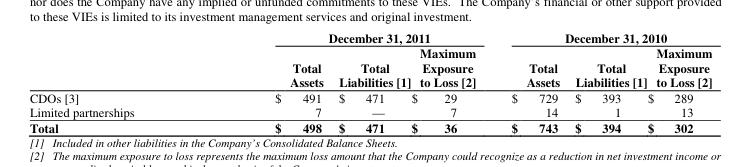table: (28, 28, 711, 135)
table column: (28, 28, 204, 135), (204, 28, 330, 135), (410, 28, 492, 135), (330, 28, 410, 135), (566, 28, 646, 135), (492, 28, 566, 135), (646, 28, 711, 135)
table column header: (28, 28, 711, 89)
table row: (28, 45, 711, 89), (28, 28, 711, 45), (28, 119, 711, 135), (28, 89, 711, 104), (28, 104, 711, 119)
table spanning cell: (204, 28, 492, 45), (492, 28, 711, 45)
